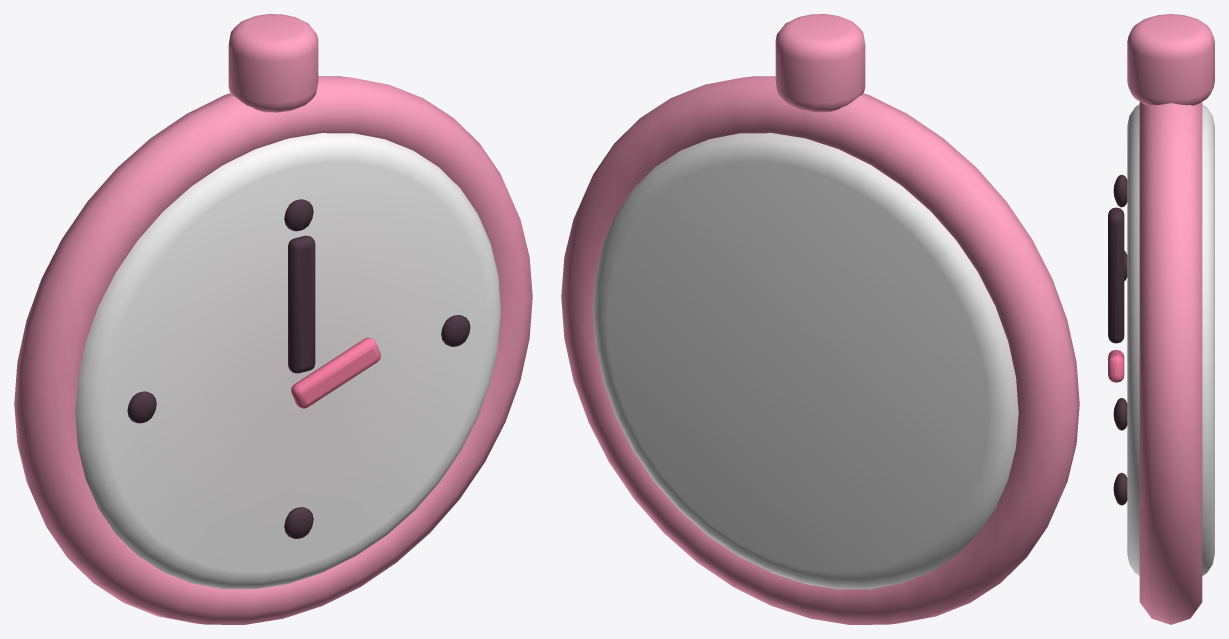
File: clock.glb
The picture shows the model from 3 angles, left to right: view 1: azimuth 30°, elevation 25°; view 2: azimuth 150°, elevation 25°; view 3: azimuth 270°, elevation 25°; orthographic projection. The views are drawn at different scales.
Parts seen in each view (by area): view 1: face, cff9fbf, c4b3442, short; view 2: face, cff9fbf; view 3: cff9fbf, face, c4b3442, short.
Boxes of the visible parts, box(x1,y1,x2,y2) form: face: box(75, 133, 500, 589); cff9fbf: box(14, 14, 532, 624); c4b3442: box(127, 199, 470, 538); short: box(291, 337, 380, 408); face: box(593, 133, 1018, 589); cff9fbf: box(561, 14, 1079, 624); cff9fbf: box(1127, 14, 1214, 624); face: box(1127, 104, 1214, 575); c4b3442: box(1108, 174, 1127, 505); short: box(1108, 350, 1124, 382).
Bounding box in the file's own units: 1.04 × 1.15 × 0.195.
